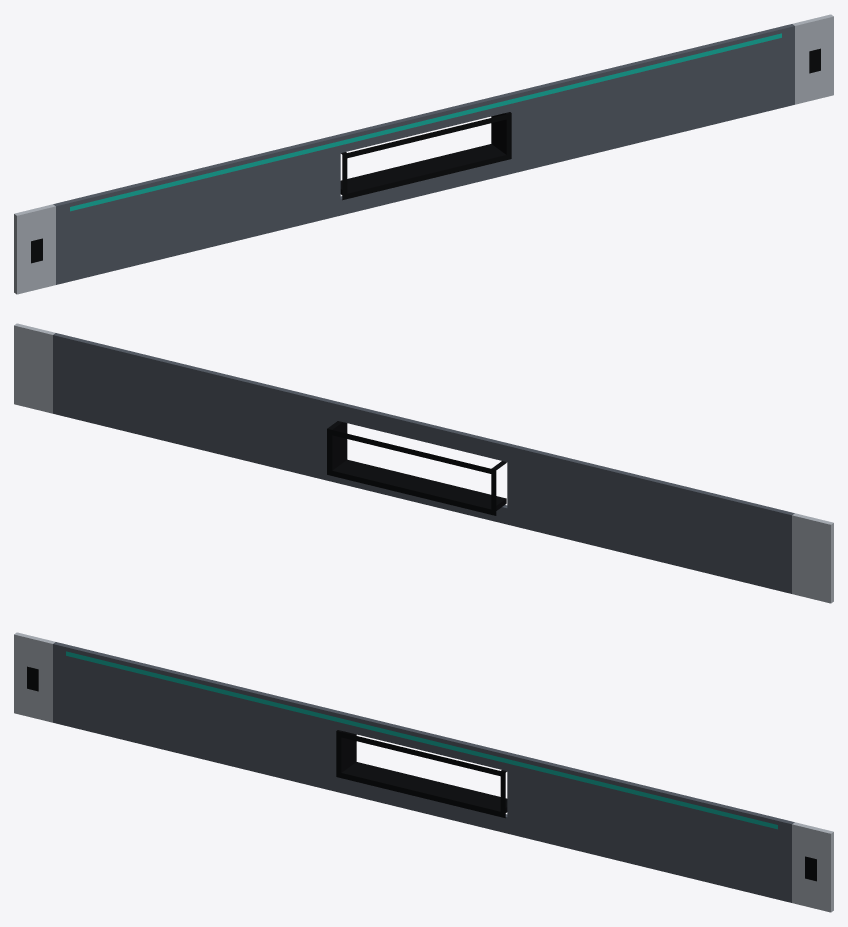
Rendered from BlankingPanel_1U_Passthrough.glb.
3 views of the same model, one above another, from view 1: azimuth 30°, elevation 25°; view 2: azimuth 150°, elevation 25°; view 3: azimuth 330°, elevation 25° (orthographic).
Visible parts, largest first — view 1: BlankingPanel_1U_Passthrough_Body; view 2: BlankingPanel_1U_Passthrough_Body; view 3: BlankingPanel_1U_Passthrough_Body.
Boxes of the visible parts, box(x1,y1,x2,y2) form: BlankingPanel_1U_Passthrough_Body: box(14, 14, 833, 294); BlankingPanel_1U_Passthrough_Body: box(14, 323, 833, 603); BlankingPanel_1U_Passthrough_Body: box(14, 632, 833, 912).
Size of the model in its own units: 0.4826 by 0.0444 by 0.0155.
